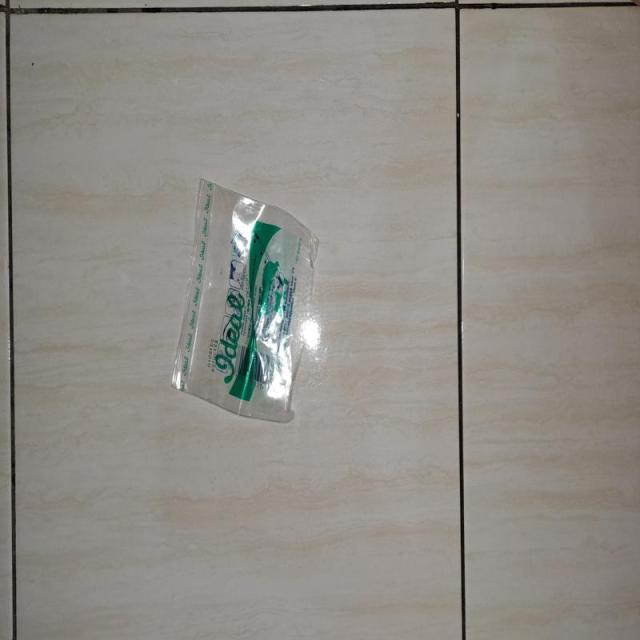Anorganik: (160, 146, 338, 438)
